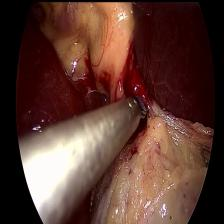Bipolar: (119, 85, 148, 135)
